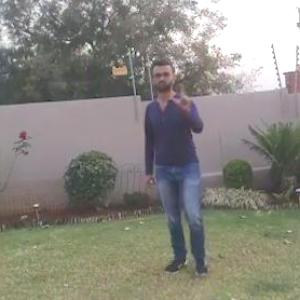land_hand: (166, 76, 199, 111)
